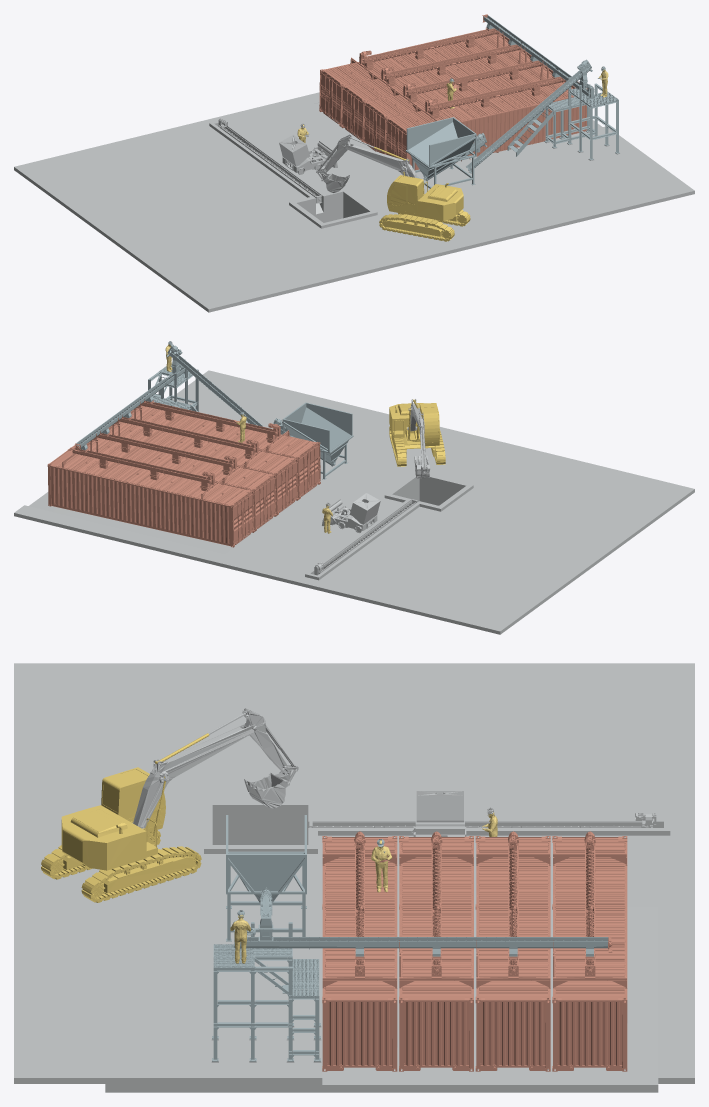
3 views of the same model, one above another, from view 1: azimuth 30°, elevation 25°; view 2: azimuth 150°, elevation 25°; view 3: azimuth 270°, elevation 25° (orthographic). The views are drawn at different scales.
Visible parts, largest first — view 1: unclassified, shared_platform_piping_candidate, reactor_candidate_4, reactor_candidate_1, reactor_candidate_2, reactor_candidate_3, excavator_candidate; view 2: unclassified, reactor_candidate_1, shared_platform_piping_candidate, reactor_candidate_2, reactor_candidate_3, reactor_candidate_4, excavator_candidate; view 3: unclassified, reactor_candidate_1, reactor_candidate_2, reactor_candidate_3, reactor_candidate_4, shared_platform_piping_candidate, excavator_candidate.
Boxes of the visible parts, x1,y1,x2,y2 form: unclassified: [14, 92, 694, 312]; shared_platform_piping_candidate: [405, 15, 619, 188]; reactor_candidate_4: [385, 63, 587, 170]; reactor_candidate_1: [319, 14, 509, 126]; reactor_candidate_2: [341, 32, 531, 141]; reactor_candidate_3: [363, 47, 553, 154]; excavator_candidate: [374, 147, 470, 241]; unclassified: [14, 370, 694, 634]; reactor_candidate_1: [47, 433, 254, 547]; shared_platform_piping_candidate: [76, 341, 353, 479]; reactor_candidate_2: [69, 418, 276, 531]; reactor_candidate_3: [108, 402, 298, 515]; reactor_candidate_4: [130, 399, 320, 499]; excavator_candidate: [389, 399, 445, 466]; unclassified: [14, 663, 694, 1092]; reactor_candidate_1: [552, 831, 627, 1071]; reactor_candidate_2: [475, 831, 550, 1071]; reactor_candidate_3: [399, 831, 473, 1071]; reactor_candidate_4: [322, 831, 397, 1071]; shared_platform_piping_candidate: [212, 815, 608, 1061]; excavator_candidate: [41, 733, 209, 902].
Bounding box in the file's own units: 31.99 × 8.5 × 22.19.
